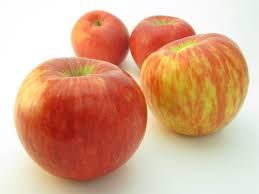apple: (14, 57, 148, 181), (140, 34, 249, 137), (72, 11, 130, 64)
